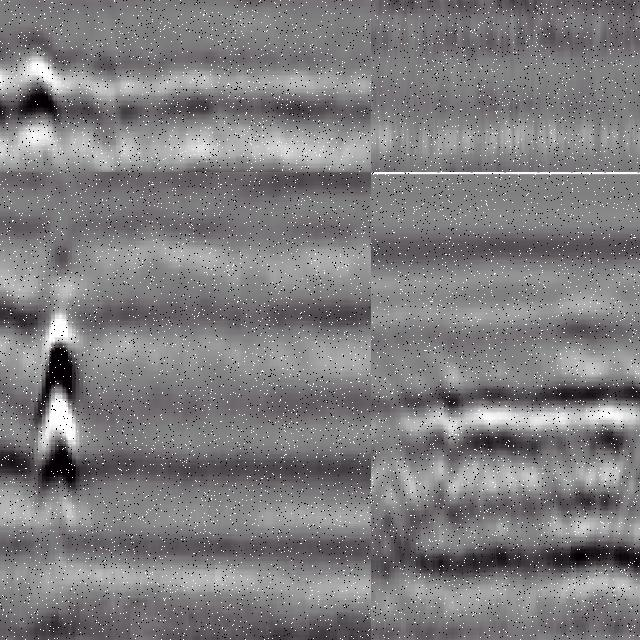crack: (35, 173, 78, 576), (401, 1, 445, 103)
loose: (385, 363, 640, 583), (1, 28, 109, 173)
